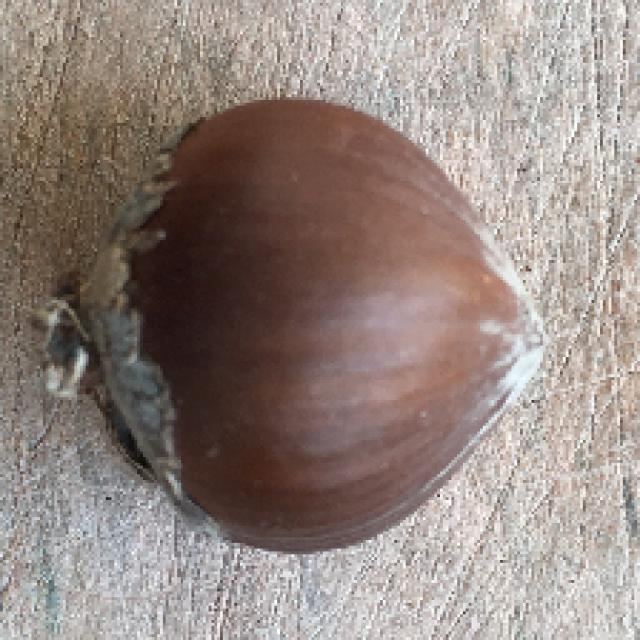damagedHazelnut: (69, 95, 558, 553)
